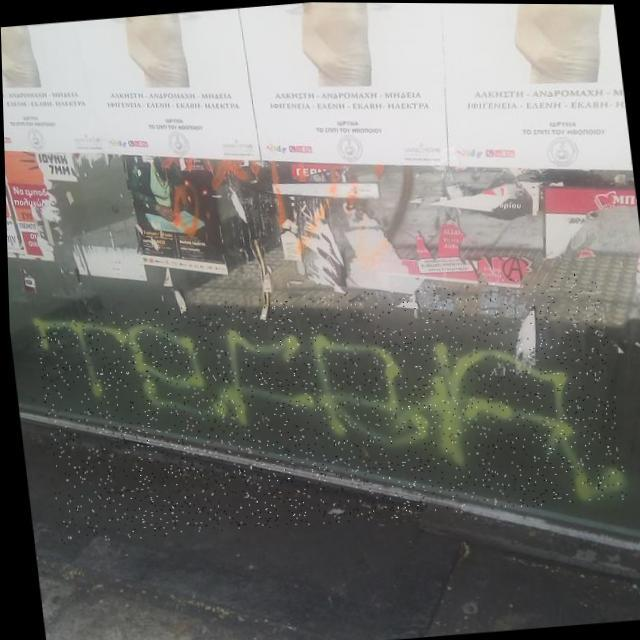-: (31, 268, 625, 548)
